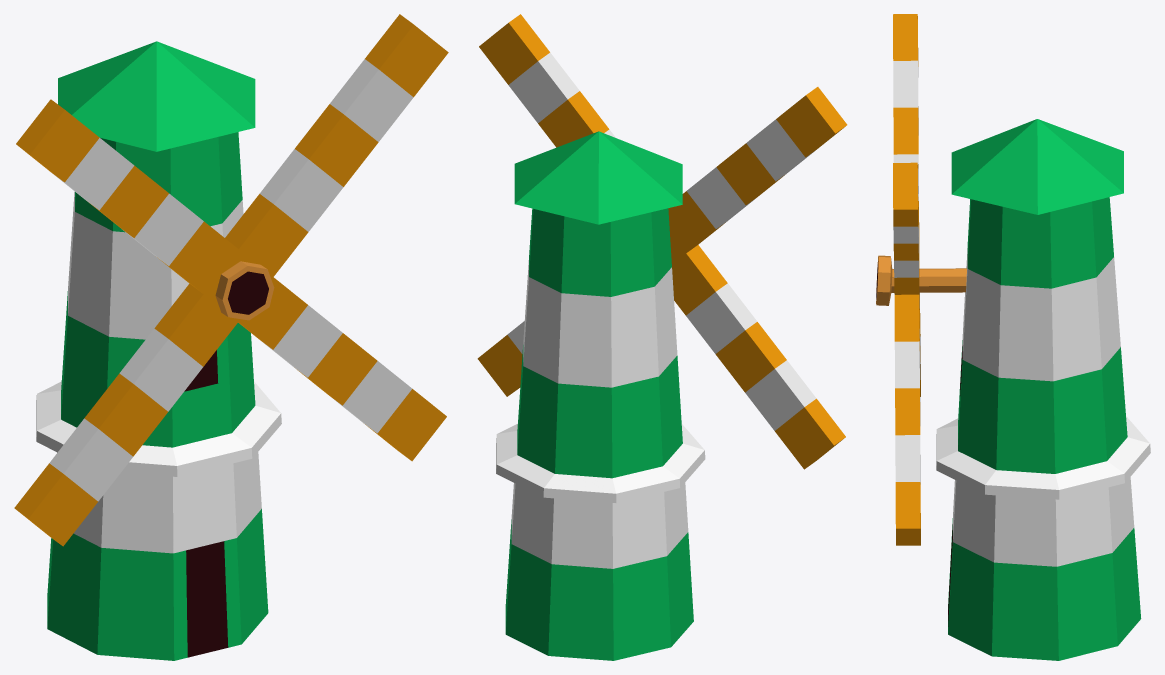
The model's file is Windmill.fbx.
3 views of the same model, side by side, from view 1: azimuth 30°, elevation 25°; view 2: azimuth 150°, elevation 25°; view 3: azimuth 270°, elevation 25° (orthographic). The views are drawn at different scales.
Parts seen in each view (by area): view 1: Cylinder, PropBlade; view 2: Cylinder, PropBlade; view 3: Cylinder, PropBlade.
Part boxes in pixels (<box>): Cylinder: <box>36,41,281,660</box>; PropBlade: <box>14,14,448,546</box>; Cylinder: <box>496,131,705,660</box>; PropBlade: <box>477,14,847,469</box>; Cylinder: <box>876,119,1150,660</box>; PropBlade: <box>893,14,920,545</box>.
Size of the model in its own units: 849 by 552 by 1179.
